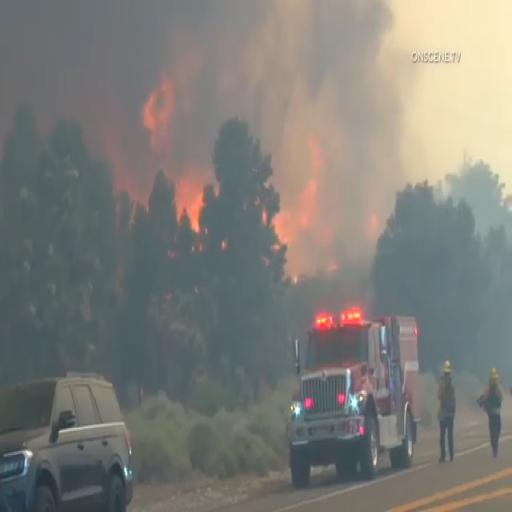smoke: (6, 4, 410, 114)
